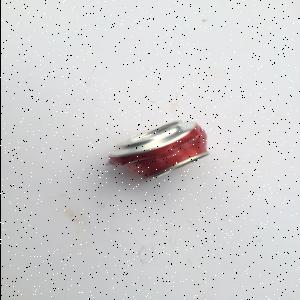Can: (106, 120, 212, 184)
